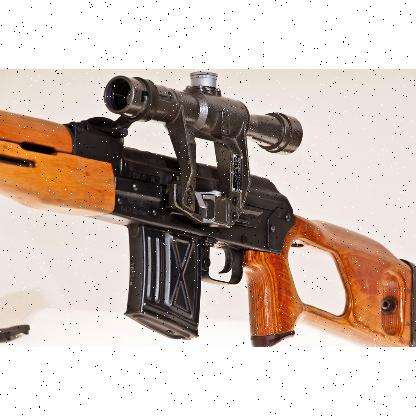gun: (0, 70, 415, 346)
